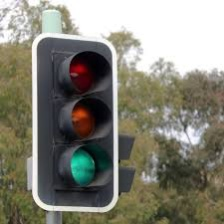semaforo: (31, 32, 118, 212)
